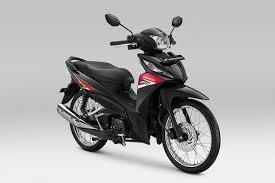motorcycle: (48, 10, 224, 183)
